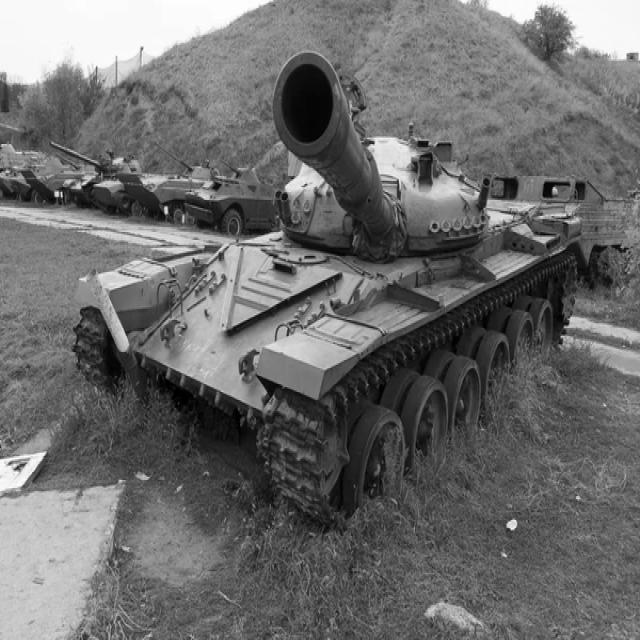Tank: (71, 49, 584, 524), (181, 161, 281, 229), (122, 148, 208, 216), (20, 148, 82, 210), (88, 152, 132, 218)
